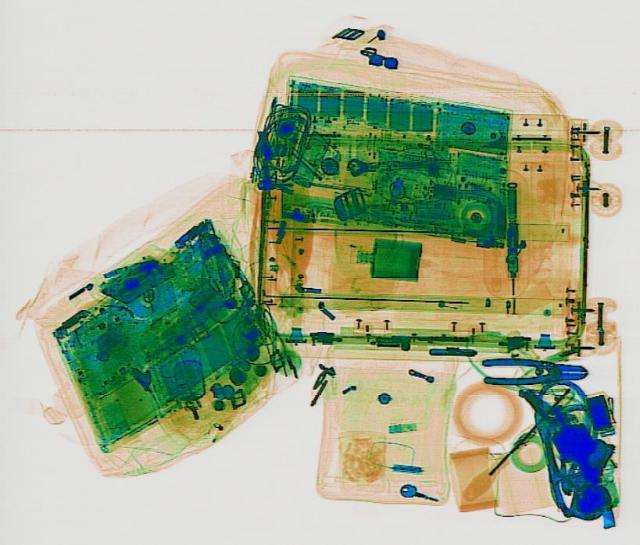Pliers: (480, 357, 588, 384)
